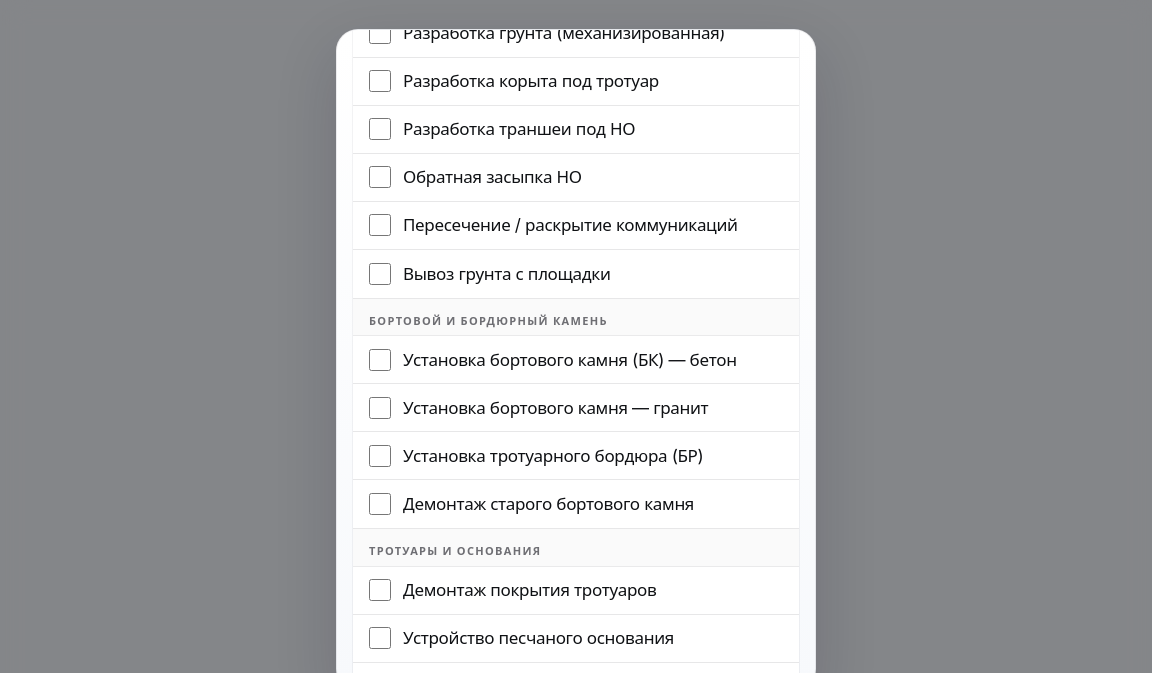
it: BrigadierReportModal — объём выполненной работы › не сохраняет отрицательный объём по работе без плана
This screenshot has width=1152, height=673.
(page scrolled)
Click the checkbox labelled "Установка бортового камня (БК) — бетон". click: [380, 360]
box: [369,349,391,371]
(page scrolled)
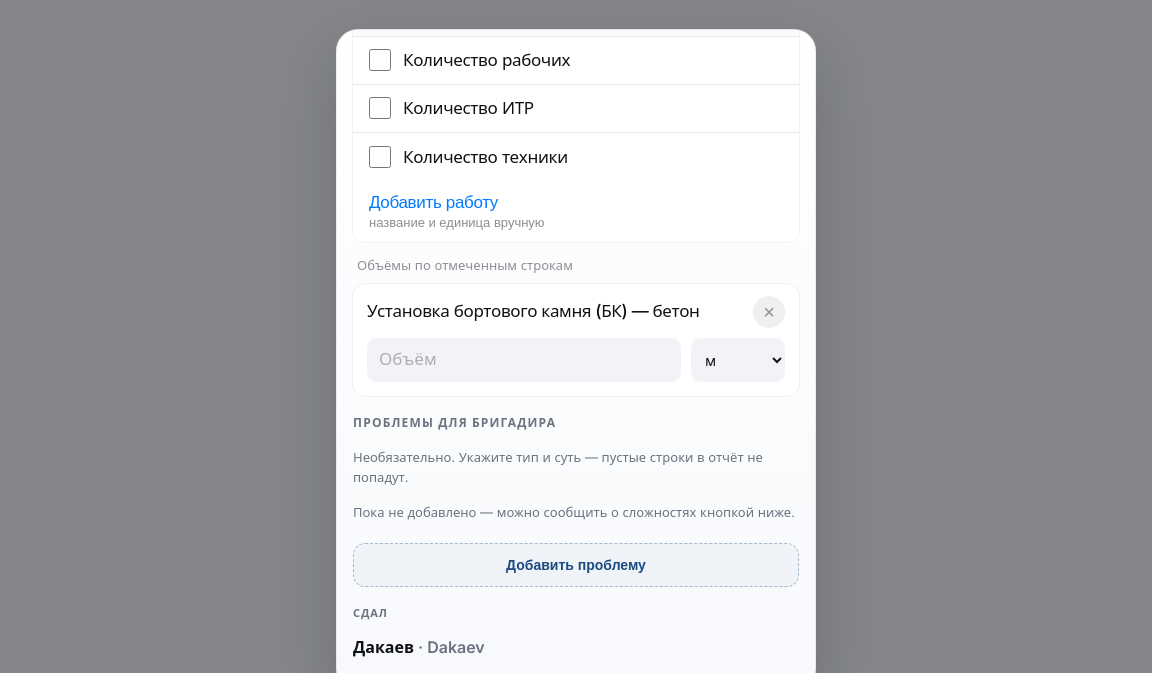
Type "-5" into the field named "Объём: Установка бортового камня". click: [524, 360]
box: [367,338,681,382]
(page scrolled)
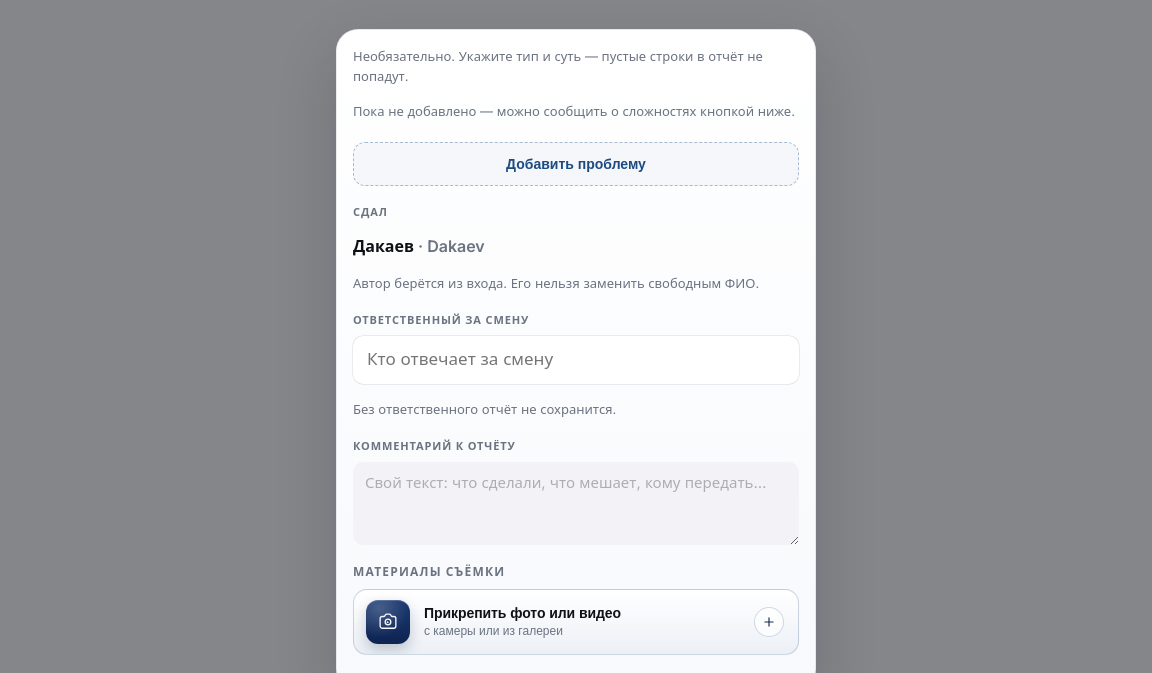
Type "Иванов" into the field labelled "Ответственный за смену". click: [576, 360]
box: [353,336,799,384]
(page scrolled)
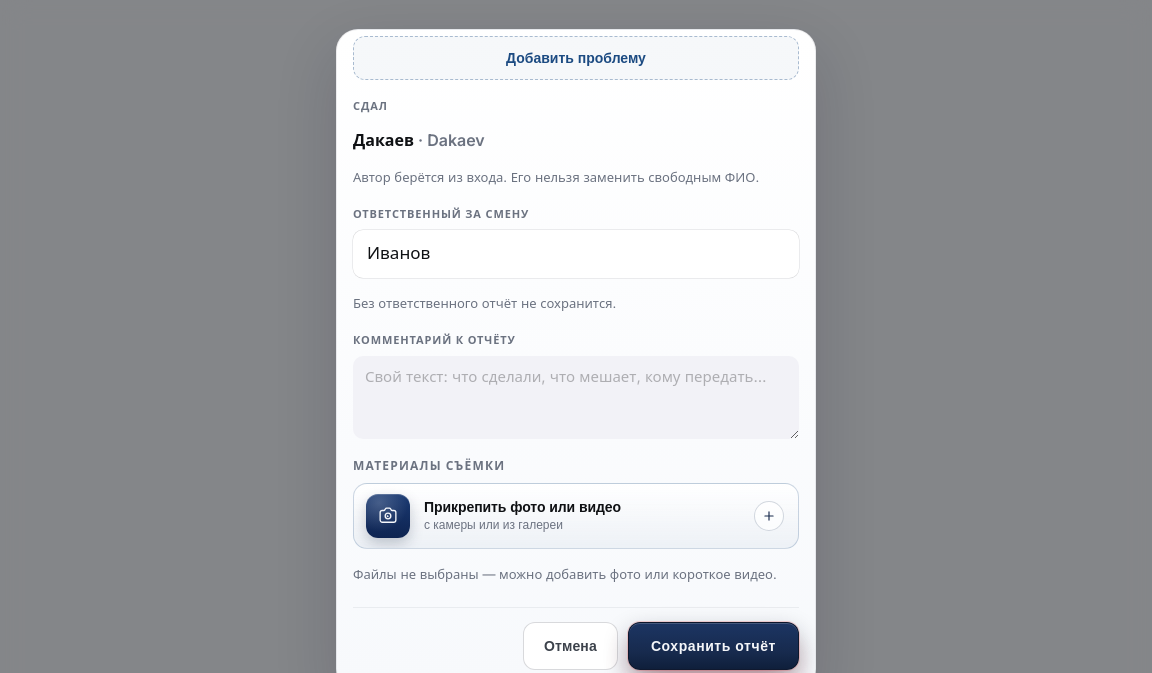
Click the button "Сохранить отчёт". click: [713, 646]
box: [628,622,799,670]
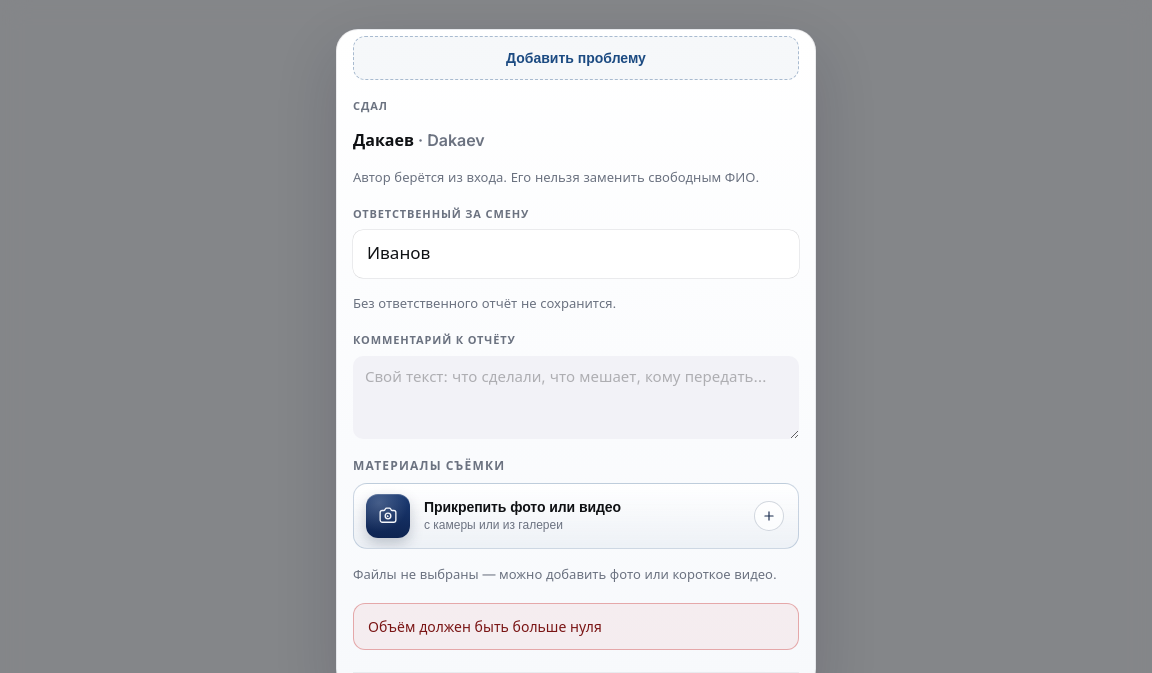
Expected: the text "Объём должен быть больше нуля" is shown, [353,602,799,650]
